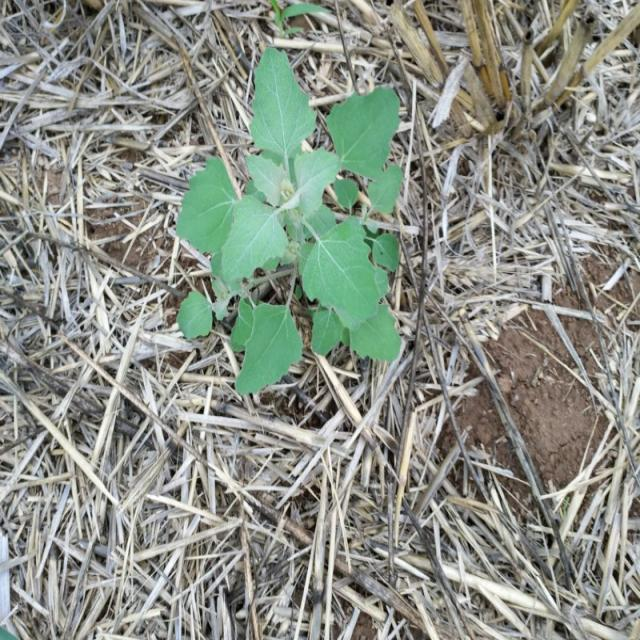goosefoots: (152, 43, 406, 387)
